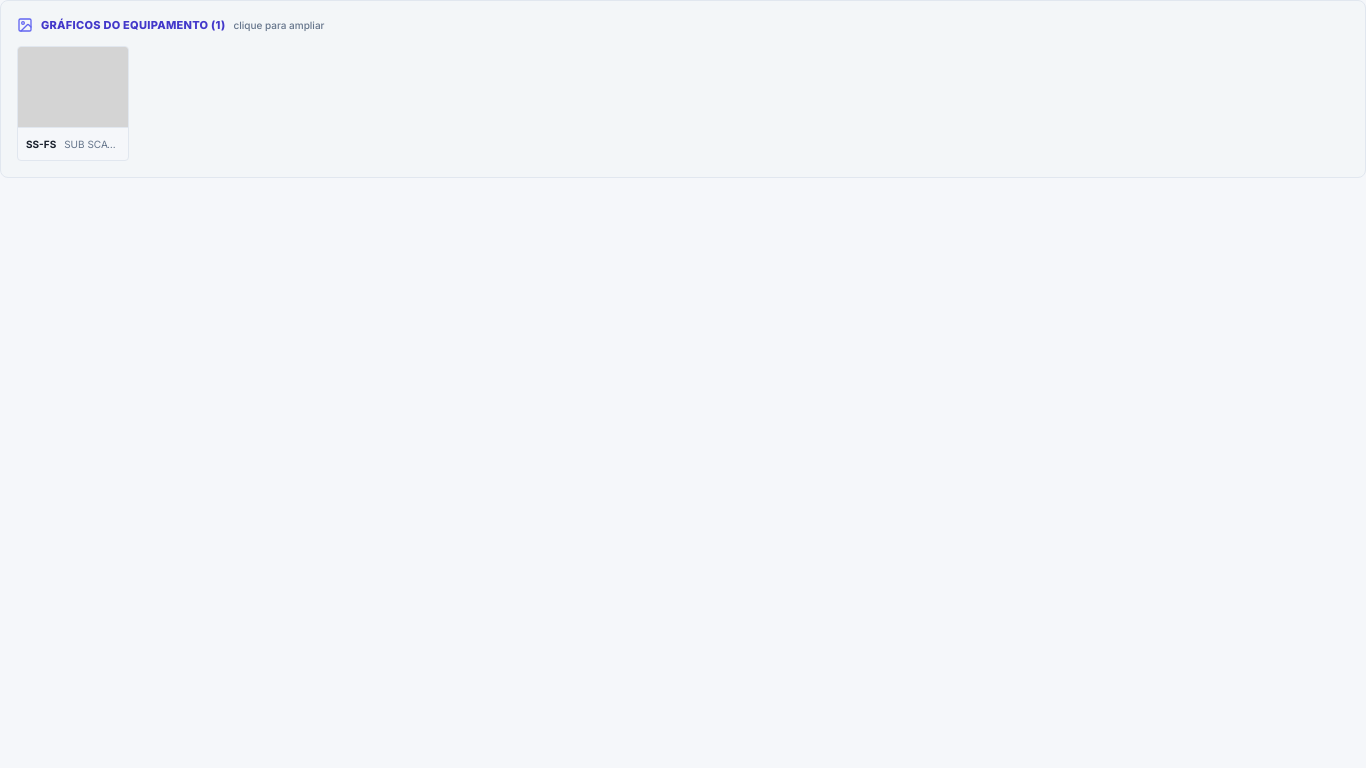
Test case: abre o gráfico ampliado com botão Fechar ao clicar na miniatura
This screenshot has width=1366, height=768.
Click the button with aria-label "ampliar gráfico sub scattergram": click(73, 103) [17, 46, 129, 160]
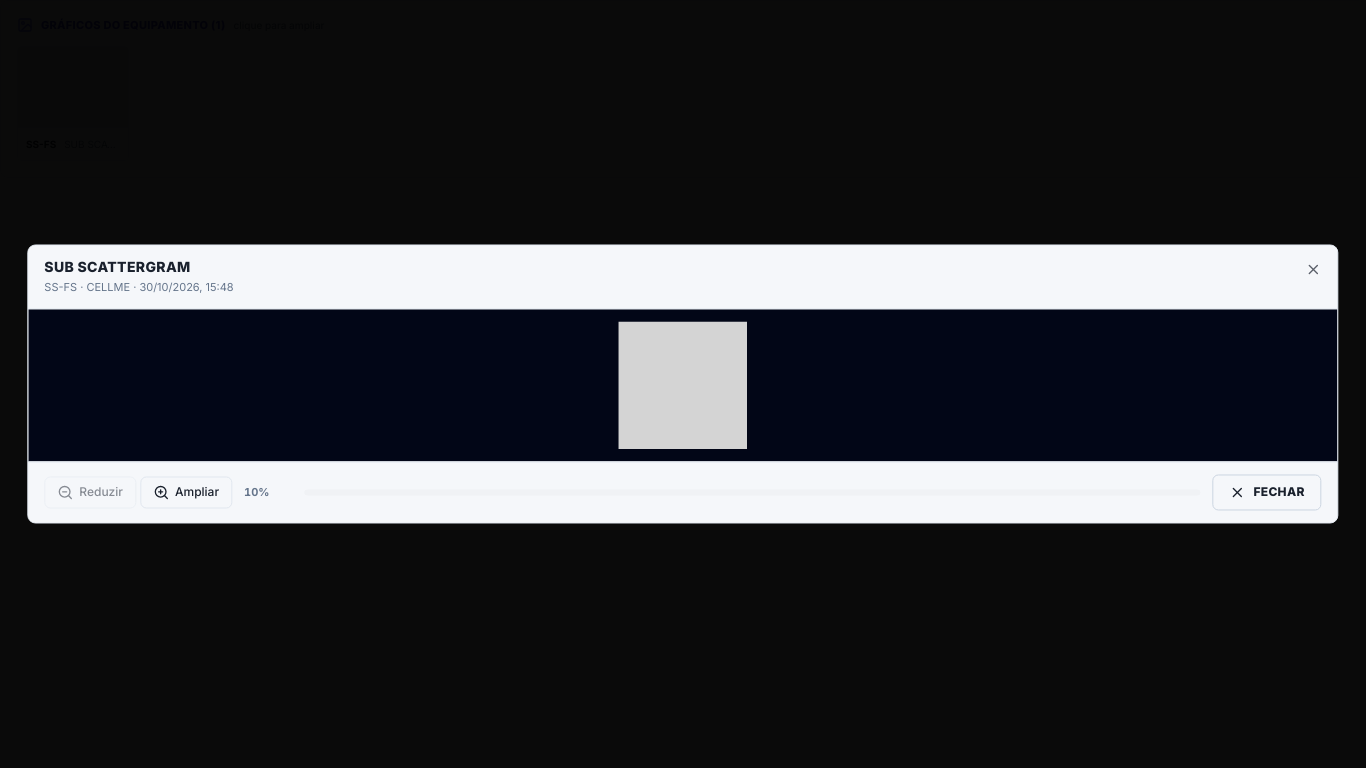
Expected: the heading "SUB SCATTERGRAM" is shown, [44, 258, 191, 276]
Click the button "Fechar": click(1267, 492) [1212, 474, 1322, 510]
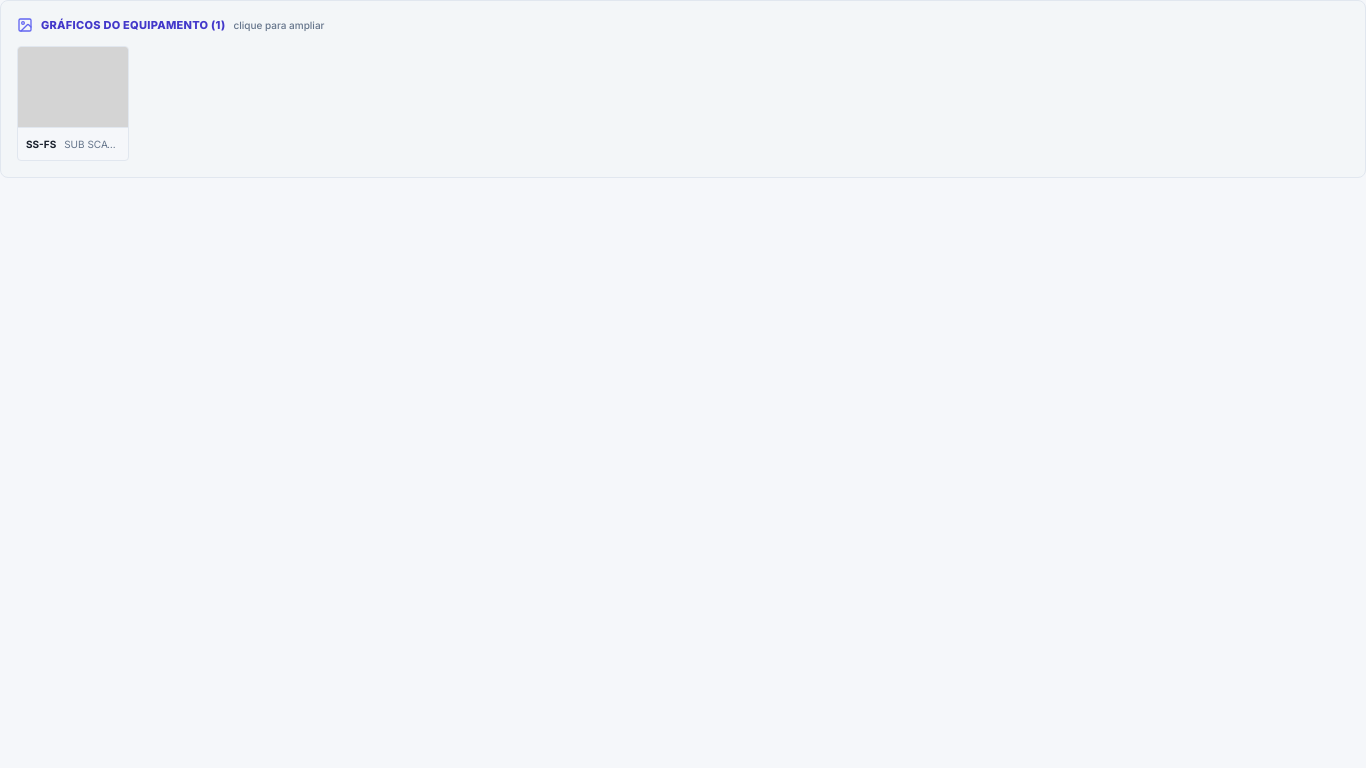
Expected: the button "Fechar" is gone
